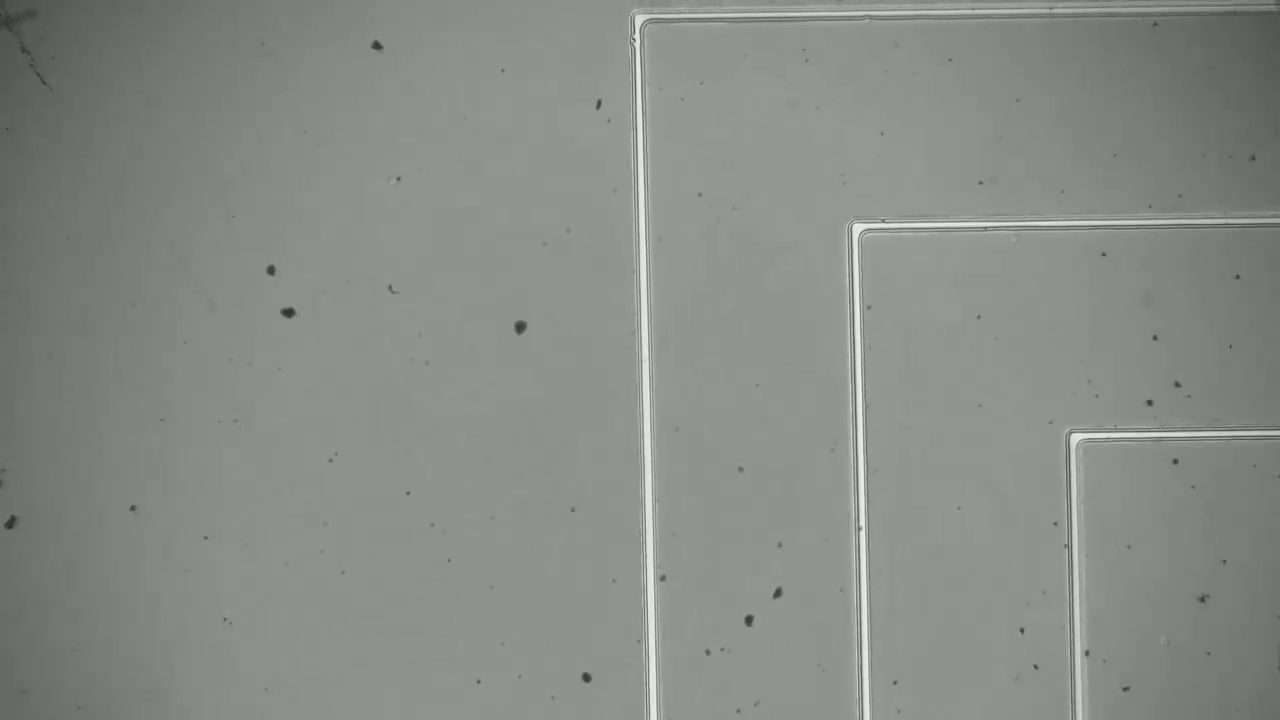scratch: (1, 1, 66, 96)
